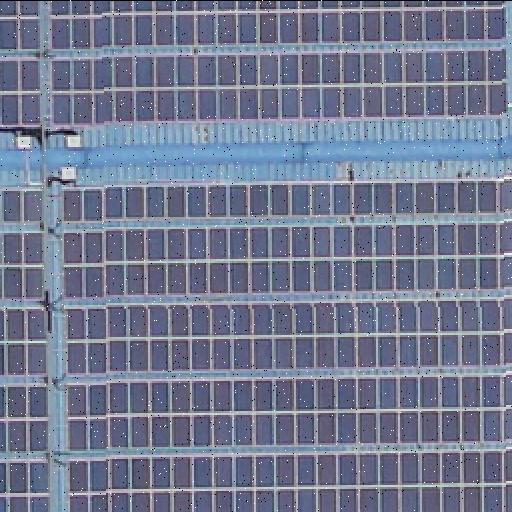solar-panel: (0, 178, 512, 512), (0, 0, 512, 128)
